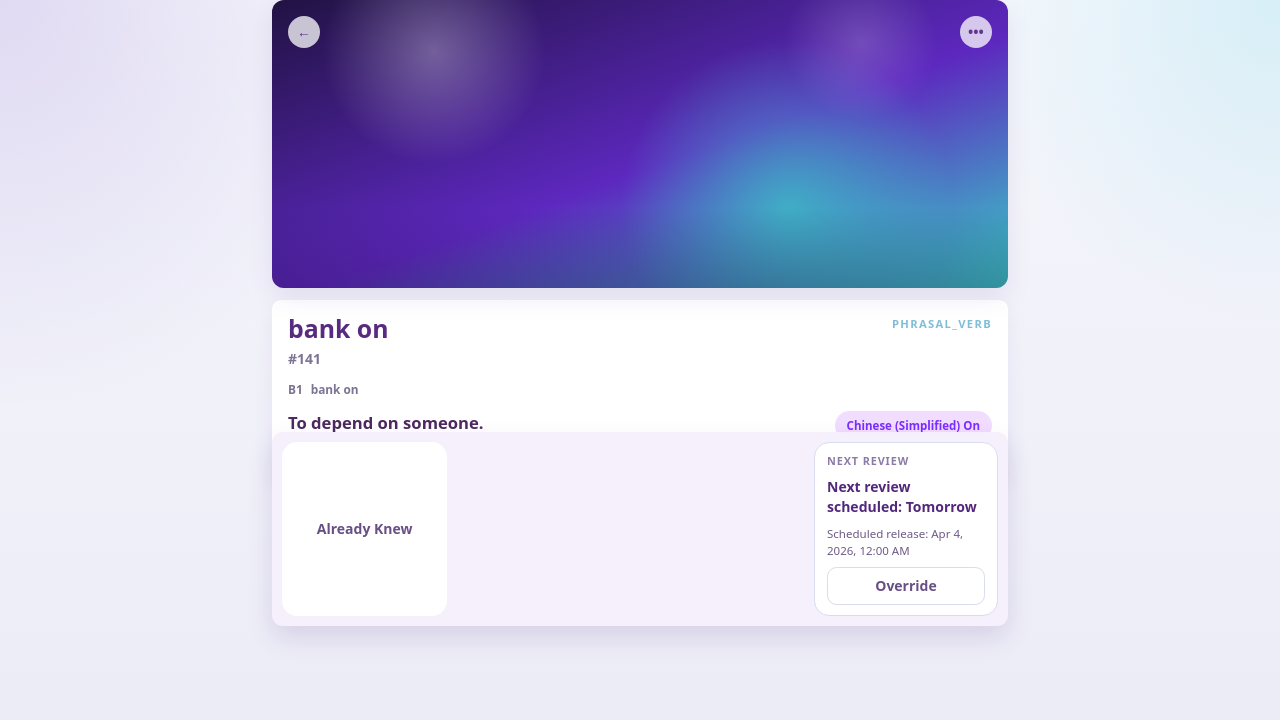
Test: KnowledgeEntryDetailPage › persists next-review changes from the detail bottom bar for queued entries
This screenshot has width=1280, height=720.
Check: the text "Next review scheduled: Tomorrow" is shown, box [827,477,985,517]
Click the button "Override". click: (906, 586)
box: [827,567,985,605]
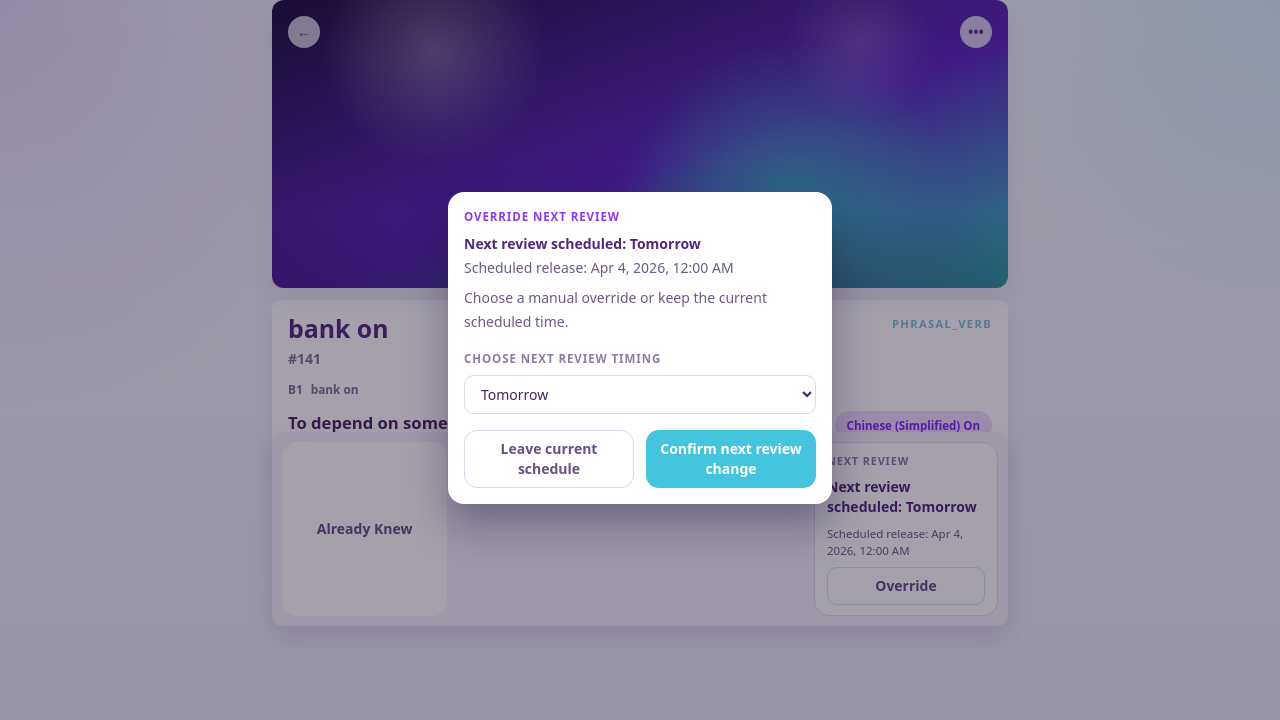
Check: the dropdown labelled "Choose next review timing" shows "Tomorrow"
Select "In a week" in the dropdown labelled "Choose next review timing". click: (640, 394)
box: [464,375,816,414]
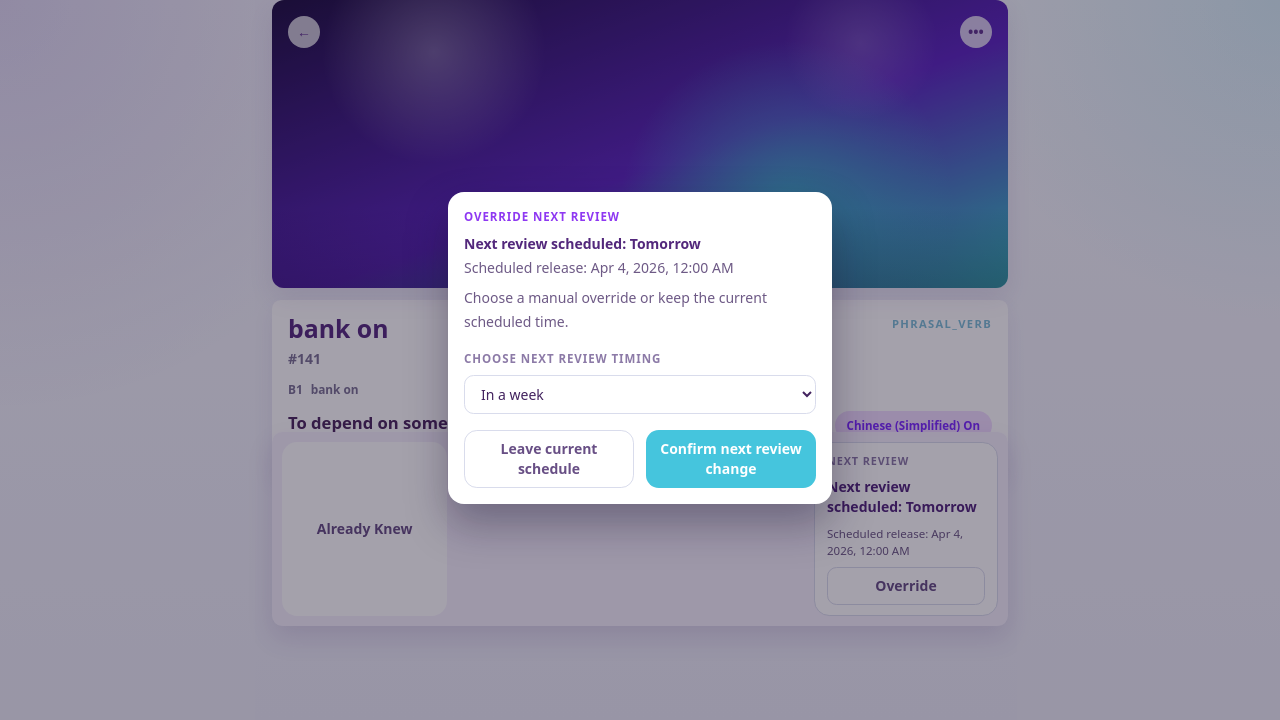
Click the button "Confirm next review change". click: (731, 459)
box: [646,430,816,488]
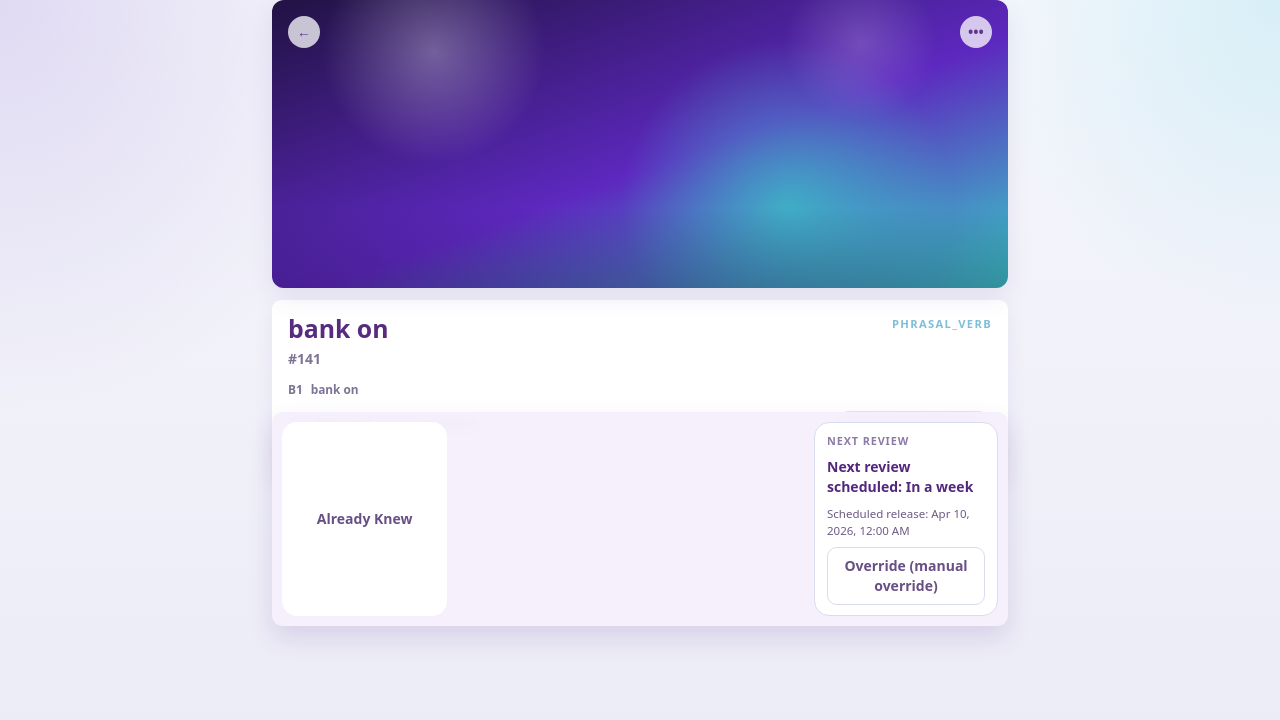
Check: the text "Next review scheduled: In a week" is shown, box [827,457,985,497]
Check: the button "Override (manual override)" is shown, box [827,547,985,605]
